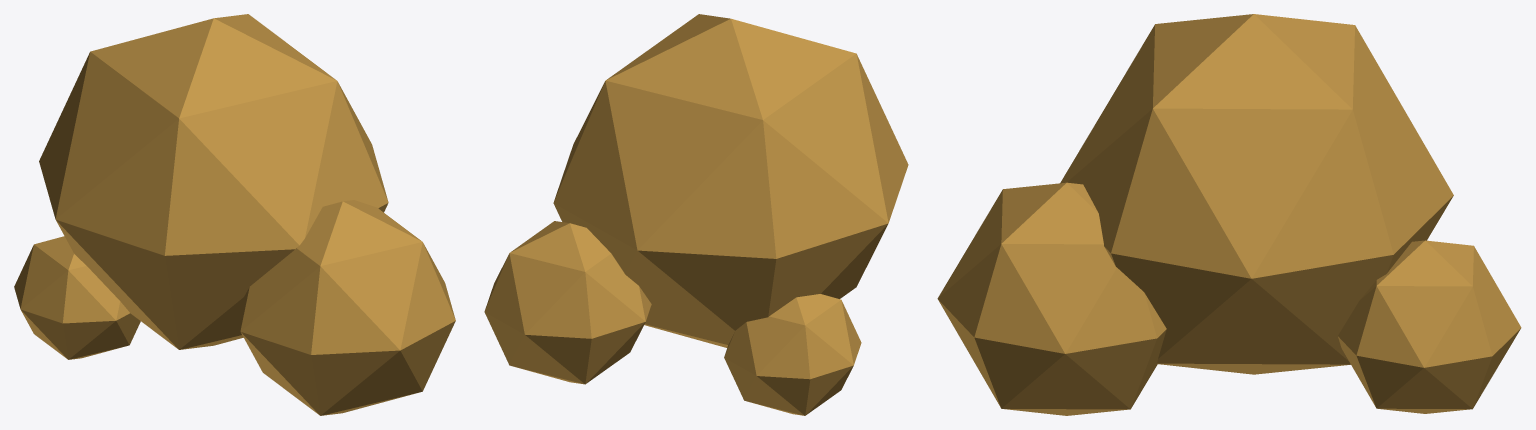
The model's file is bush_orange_1.glb.
3 views of the same model, side by side, from view 1: azimuth 30°, elevation 25°; view 2: azimuth 150°, elevation 25°; view 3: azimuth 270°, elevation 25° (orthographic). The views are drawn at different scales.
Parts seen in each view (by area): view 1: Liurnia Bushes.002; view 2: Liurnia Bushes.002; view 3: Liurnia Bushes.002.
Part boxes in pixels (bbox=[...]): Liurnia Bushes.002: bbox=[14, 14, 455, 415]; Liurnia Bushes.002: bbox=[484, 14, 908, 415]; Liurnia Bushes.002: bbox=[937, 14, 1521, 415].
Size of the model in its own units: 0.0768 by 0.08 by 0.112.
